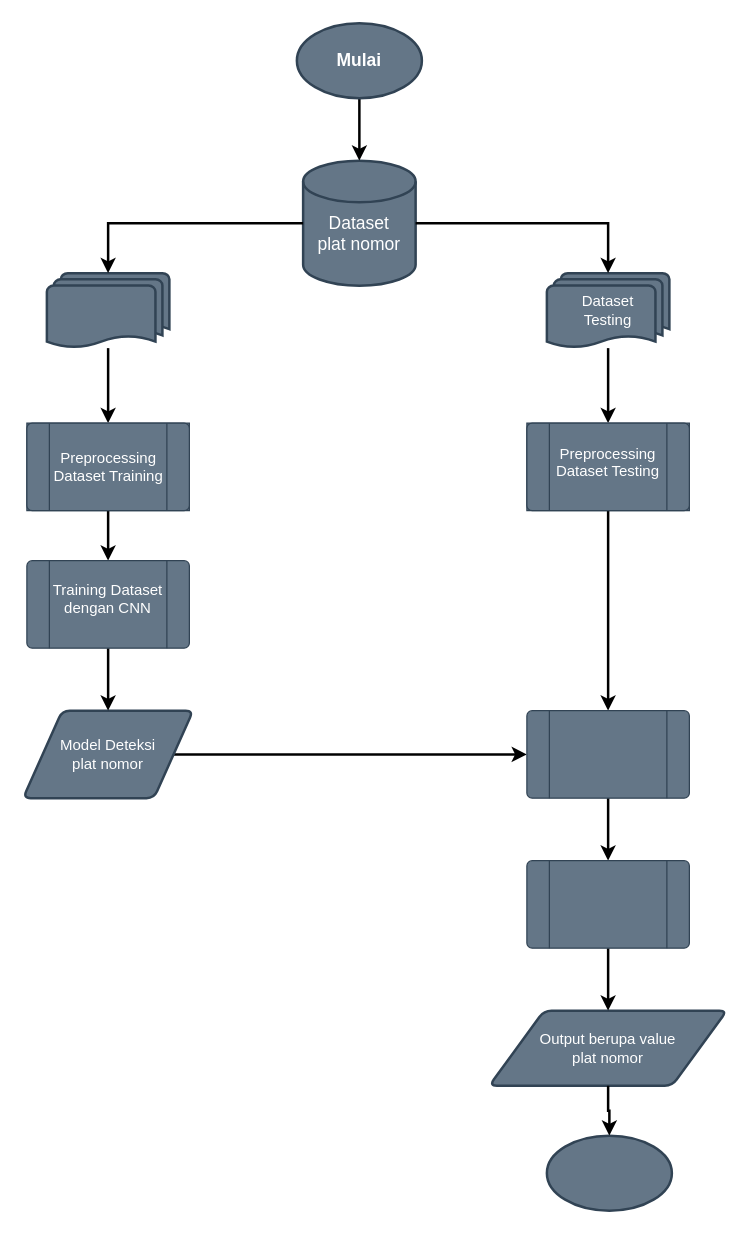
Image size: 749x1233. Some labels were removed from this diagram. The centre of each missing label's shape, as x and y in pixels:
"Dataset Training" goes at (x=107, y=310).
"Pembacaan plat nomor dengan OCR" goes at (x=607, y=903).
"Selesai" goes at (x=608, y=1172).
"Testing Dataset dengan CNN" goes at (x=607, y=753).
